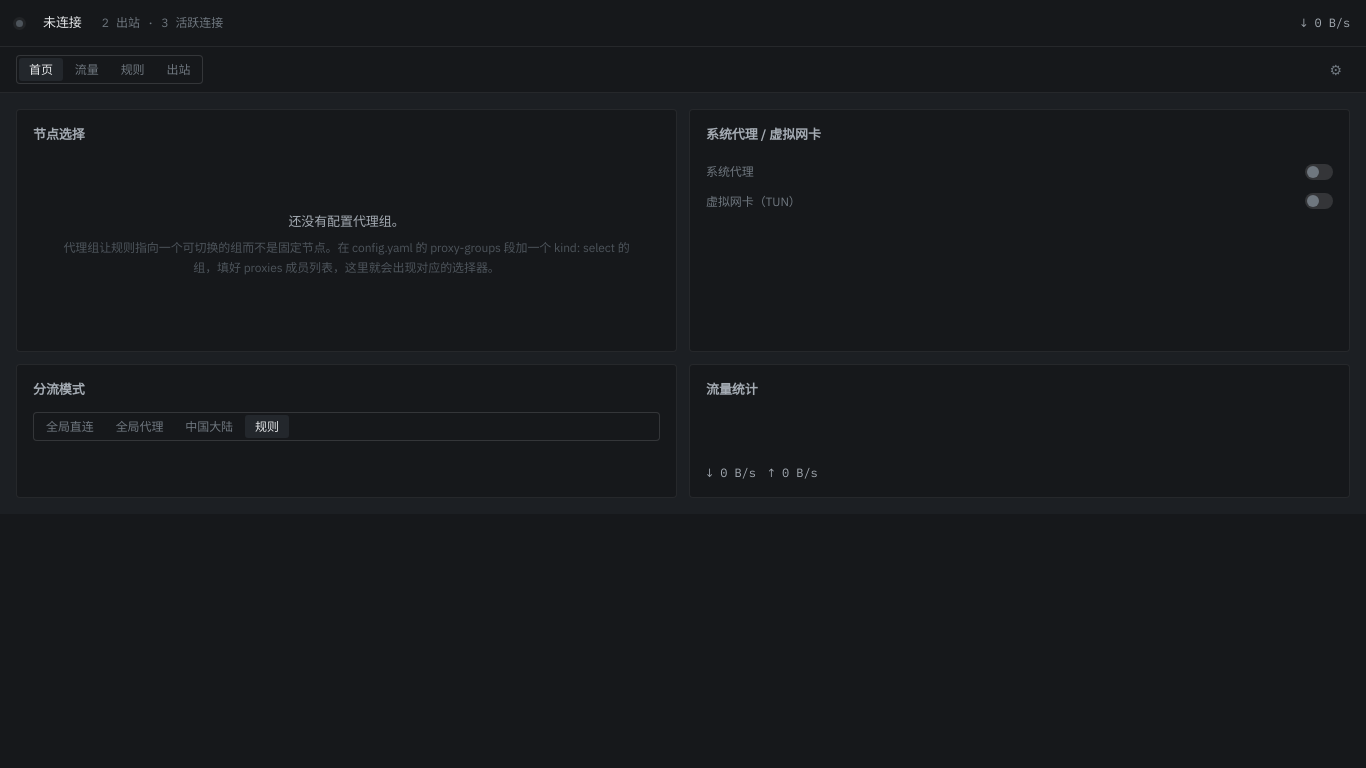
it: 组装：设置覆盖层的焦点往返（Task 15 遗留的那一条） › Esc 关闭覆盖层，焦点回到齿轮 —— 键盘用户不会掉到 body 上
Click the button named "打开设置".
click(1336, 70)  # box 1322,58 -> 1350,82
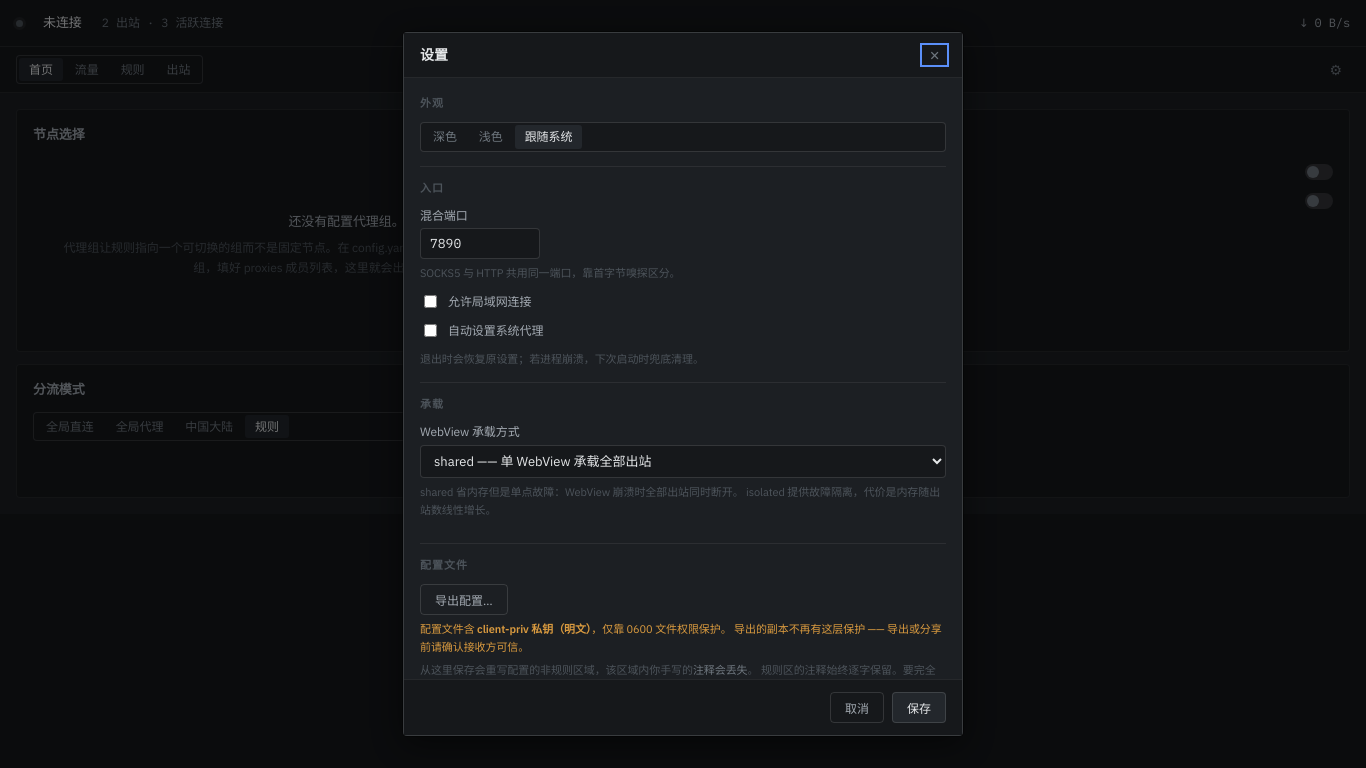
Press Escape
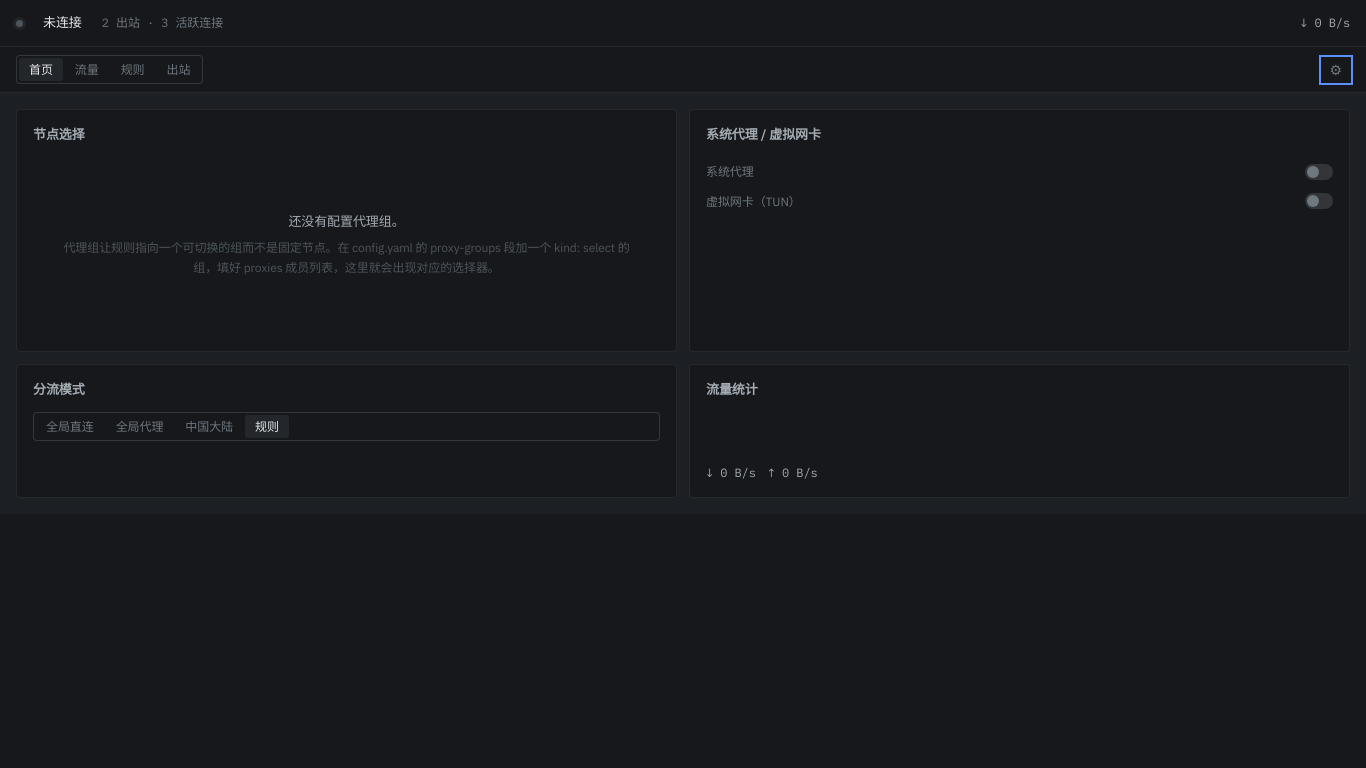
Expected: the dialog is gone
